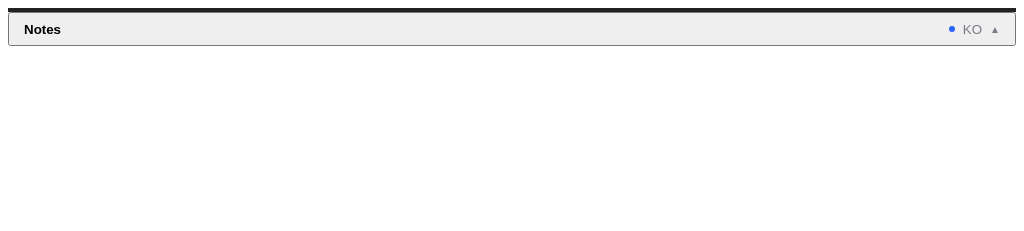
Scenario: Should show the note of the symbol once unfolded
Click the button with aria-label "Notes for KO" at (43,29), box [8,12,1016,46]
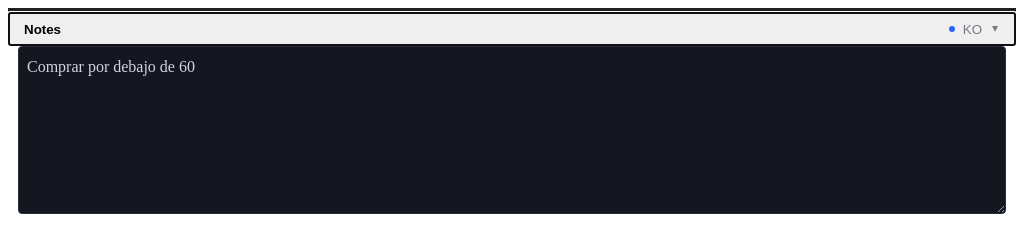
expect the text box named "Notes for KO" holds "Comprar por debajo de 60": met
